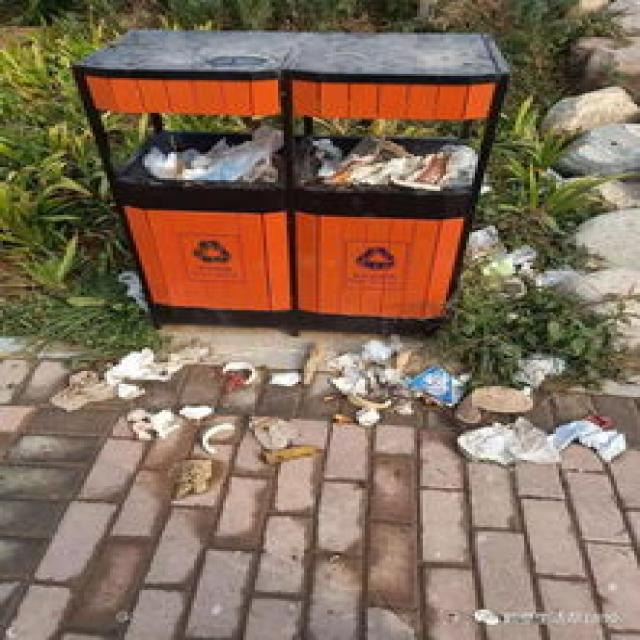garbage: (52, 336, 626, 497)
overflow: (69, 26, 504, 332)
